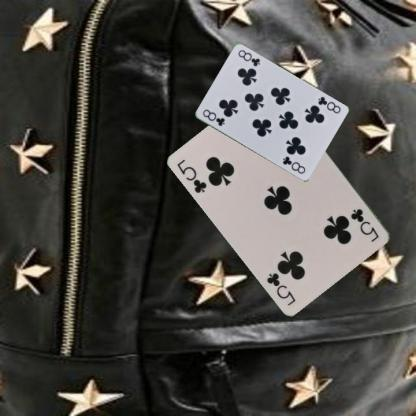5c: (174, 156, 208, 194), (348, 206, 381, 244)
8c: (200, 107, 226, 128), (315, 94, 341, 115)
